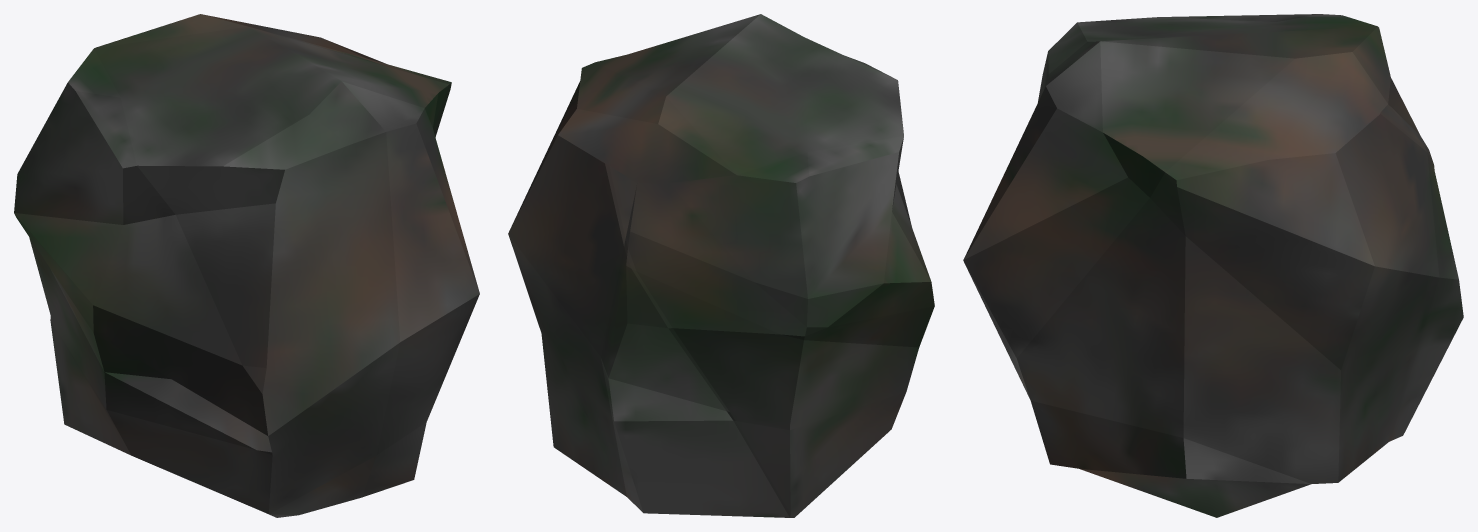
Rendered from rock003.fbx.
3 views of the same model, side by side, from view 1: azimuth 30°, elevation 25°; view 2: azimuth 150°, elevation 25°; view 3: azimuth 270°, elevation 25° (orthographic). The views are drawn at different scales.
Visible parts, largest first — view 1: Cylinder; view 2: Cylinder; view 3: Cylinder.
Boxes of the visible parts, x1=… form: Cylinder: x1=14, y1=14, x2=479, y2=517; Cylinder: x1=508, y1=14, x2=934, y2=517; Cylinder: x1=963, y1=14, x2=1463, y2=517.
Size of the model in its own units: 248 by 287 by 281.
